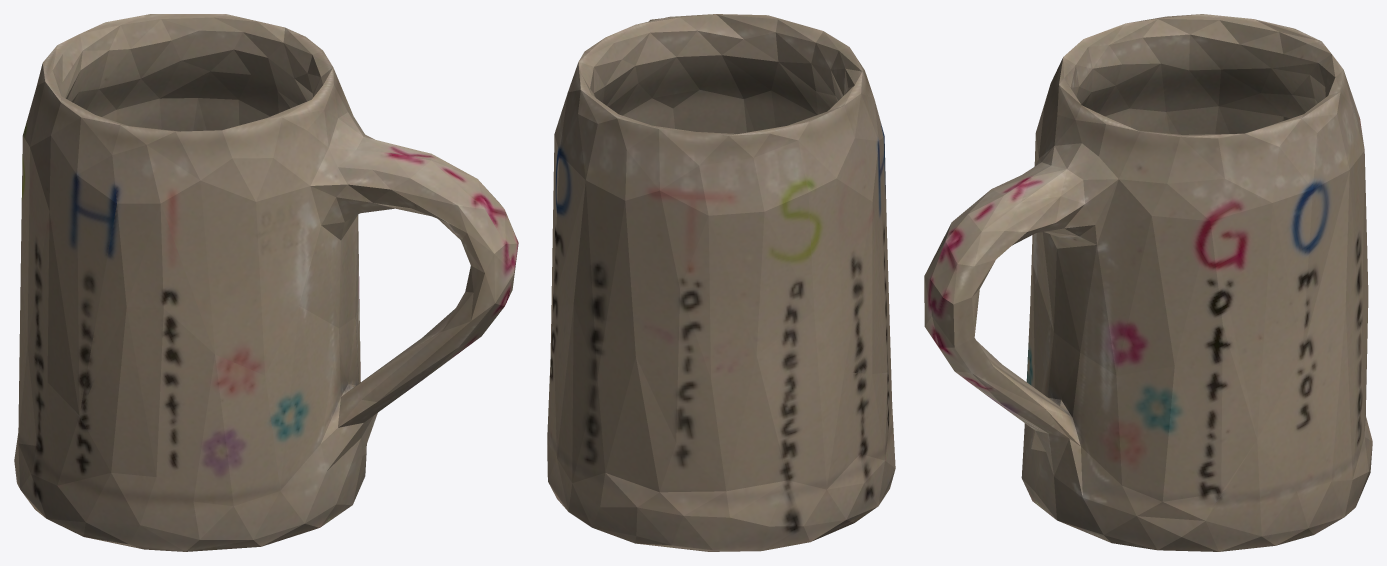
The model's file is E6D5AF89-0DCE-6043-83A5-E7B84FA5E97D_512.glb.
3 renders of one model, left to right at view 1: azimuth 30°, elevation 25°; view 2: azimuth 150°, elevation 25°; view 3: azimuth 270°, elevation 25°, orthographic.
Visible parts, largest first — view 1: Krug Akronym_0.8k_0.5k; view 2: Krug Akronym_0.8k_0.5k; view 3: Krug Akronym_0.8k_0.5k.
Part boxes in pixels (box(x1,y1,x2,y2)): Krug Akronym_0.8k_0.5k: box(14, 14, 518, 551); Krug Akronym_0.8k_0.5k: box(547, 14, 895, 551); Krug Akronym_0.8k_0.5k: box(924, 14, 1372, 551).
Bounding box in the file's own units: 0.1148 × 0.1271 × 0.1255.
1 material, 1 textured.
